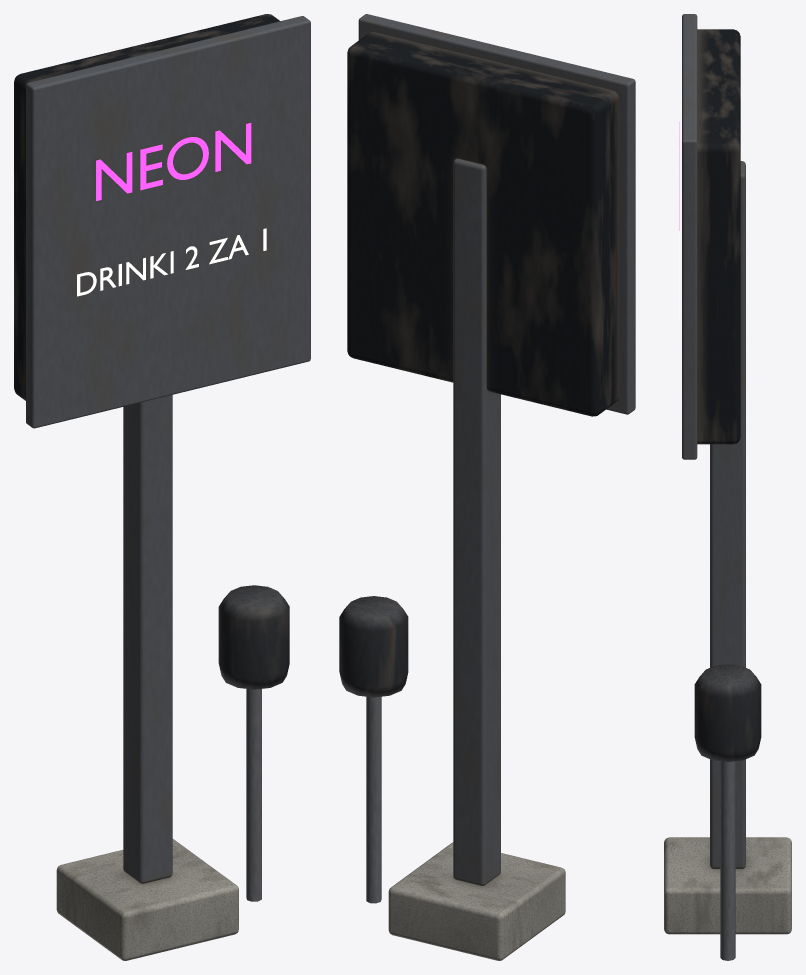
File: klub_neon_a.glb
3 renders of one model, left to right at view 1: azimuth 30°, elevation 25°; view 2: azimuth 150°, elevation 25°; view 3: azimuth 270°, elevation 25°, orthographic. The views are drawn at different scales.
Visible parts, largest first — view 1: Neon, Swiatlo; view 2: Neon; view 3: Neon.
Part boxes in pixels (x1,y1,x2,y2): Neon: (14,14,310,960); Swiatlo: (77,123,266,296); Neon: (339,14,635,960); Neon: (664,14,791,960).
Bounding box in the file's own units: 1.18 × 3.59 × 0.5.
3 materials, 1 textured.
